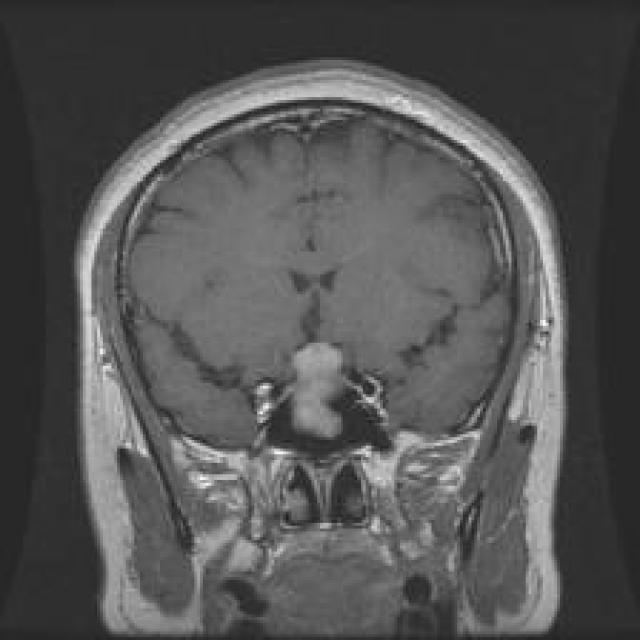pituitary_tumor: (270, 329, 368, 450)
